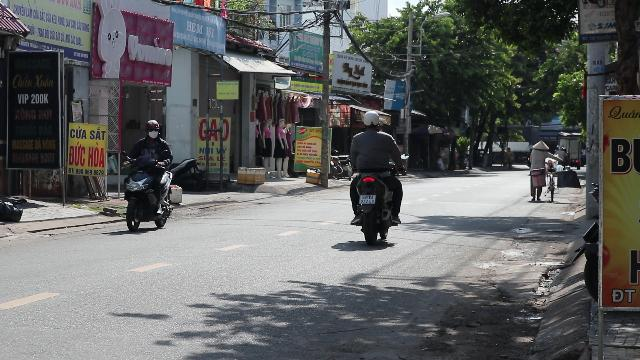helmet: (362, 109, 380, 128), (144, 118, 160, 138)
licenseplate: (359, 194, 375, 204)
motorcyclist: (346, 109, 406, 245), (118, 118, 176, 232)
